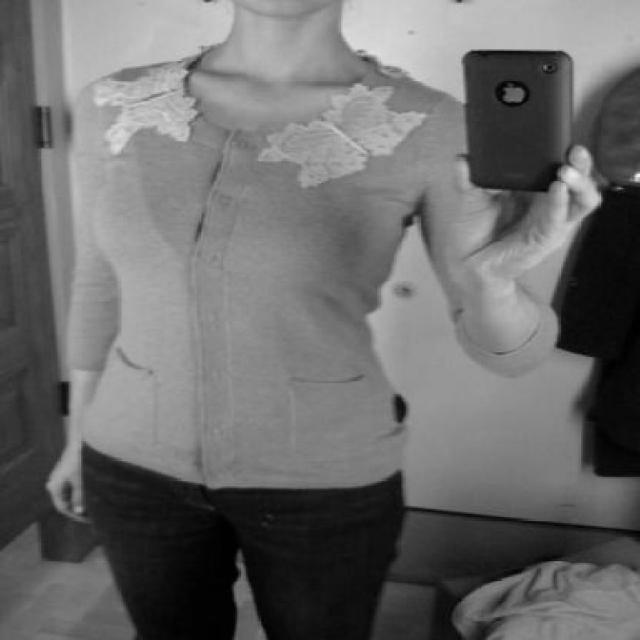fake: (466, 40, 583, 176)
